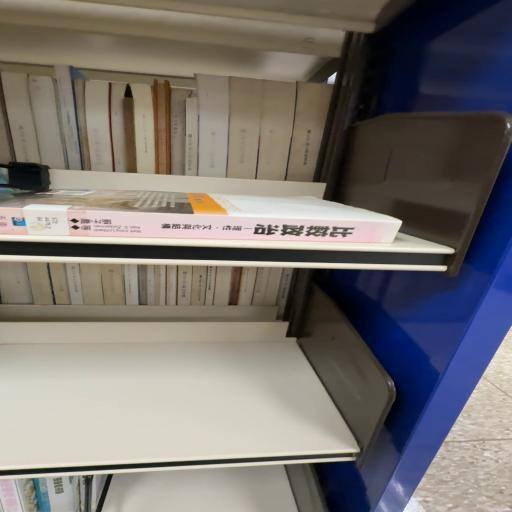flat: (0, 189, 402, 243)
